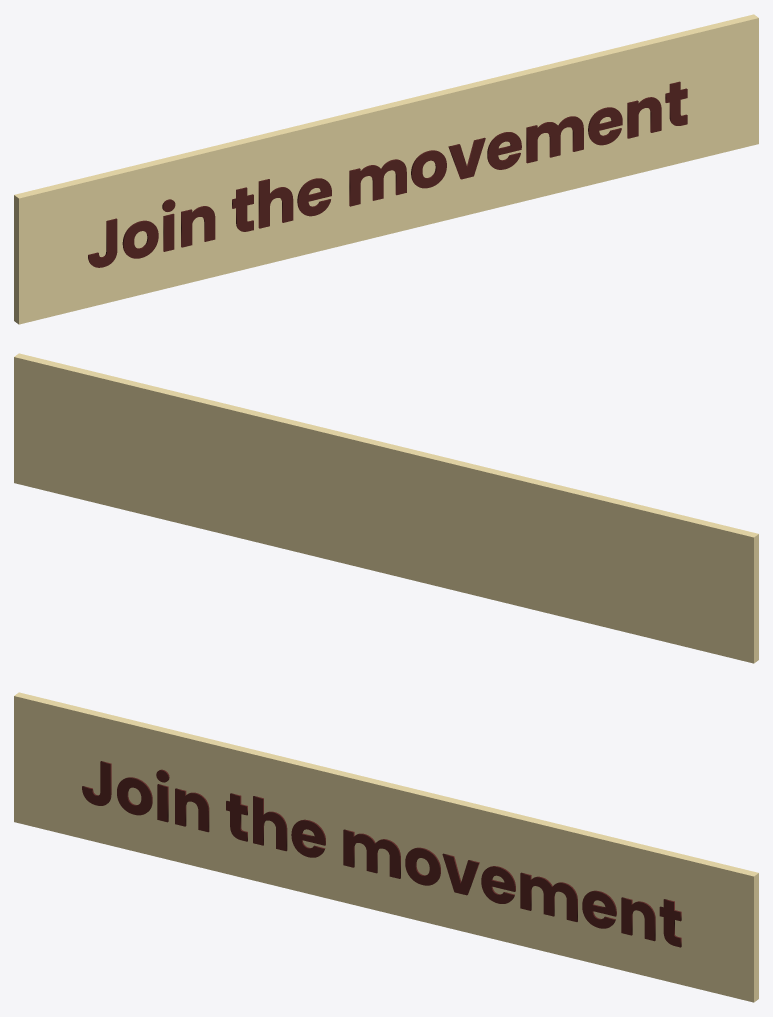
Rendered from joinButton.gltf.
The picture shows the model from 3 angles, top to bottom: view 1: azimuth 30°, elevation 25°; view 2: azimuth 150°, elevation 25°; view 3: azimuth 330°, elevation 25°; orthographic projection.
Parts seen in each view (by area): view 1: joinButton, Text.001; view 2: joinButton; view 3: joinButton, Text.001.
Boxes of the visible parts, left/top/right/bottom form: joinButton: left=14, top=14, right=758, bottom=324; Text.001: left=88, top=81, right=687, bottom=267; joinButton: left=14, top=353, right=758, bottom=663; joinButton: left=14, top=692, right=758, bottom=1002; Text.001: left=82, top=761, right=681, bottom=947.
Size of the model in its own units: 10.75 by 1.75 by 0.1486.
